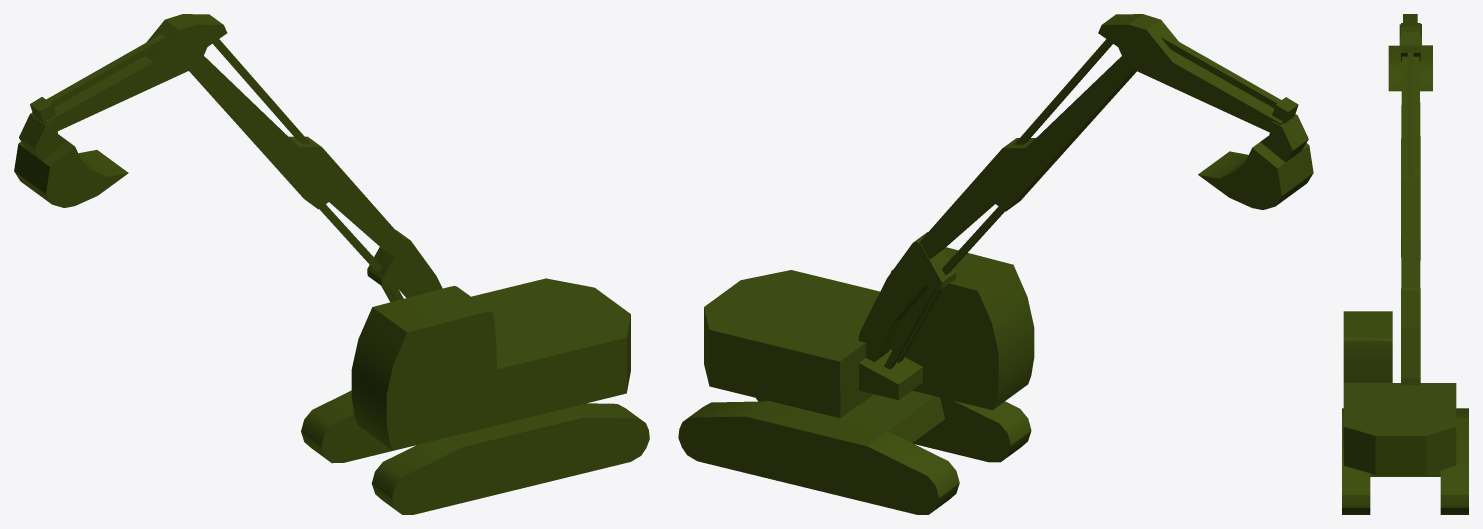
The model's file is Vehicle08A_M.fbx.
3 views of the same model, side by side, from view 1: azimuth 30°, elevation 25°; view 2: azimuth 150°, elevation 25°; view 3: azimuth 270°, elevation 25° (orthographic). The views are drawn at different scales.
Visible parts, largest first — view 1: Vehicle08A; view 2: Vehicle08A; view 3: Vehicle08A.
Part boxes in pixels (x1,y1,x2,y2): Vehicle08A: (14, 14, 649, 514); Vehicle08A: (678, 14, 1313, 514); Vehicle08A: (1342, 14, 1468, 514).
Size of the model in its own units: 13.19 by 10.93 by 3.6.
